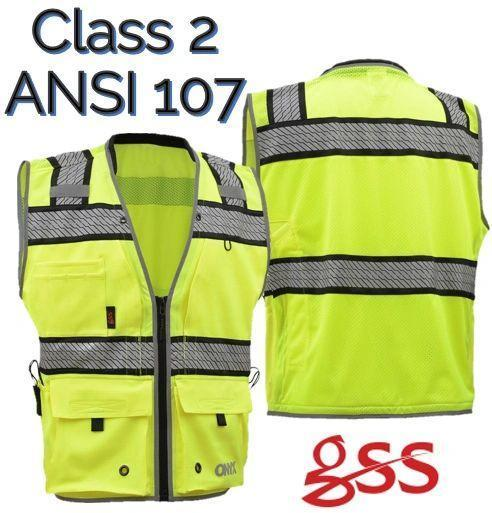vest: (16, 128, 270, 504), (239, 58, 489, 420)
